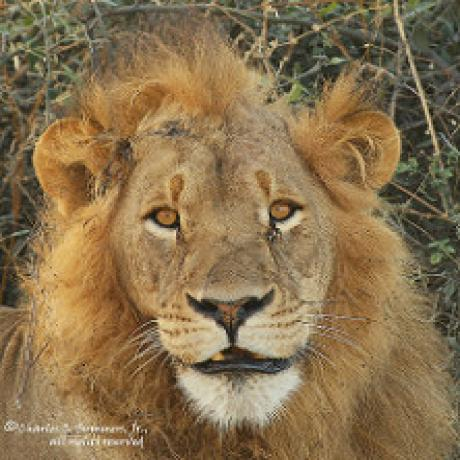Lion: (2, 26, 433, 460)
